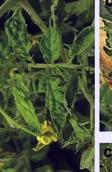Tomato leaf mosaic virus: (13, 73, 39, 129), (3, 7, 33, 55), (46, 72, 67, 132), (69, 26, 94, 63), (40, 24, 62, 65)
